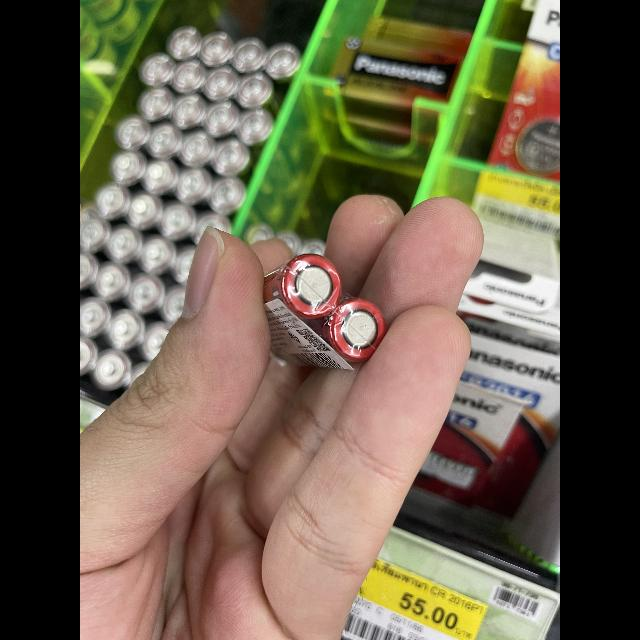battery: (261, 290, 392, 367), (260, 247, 351, 336)
